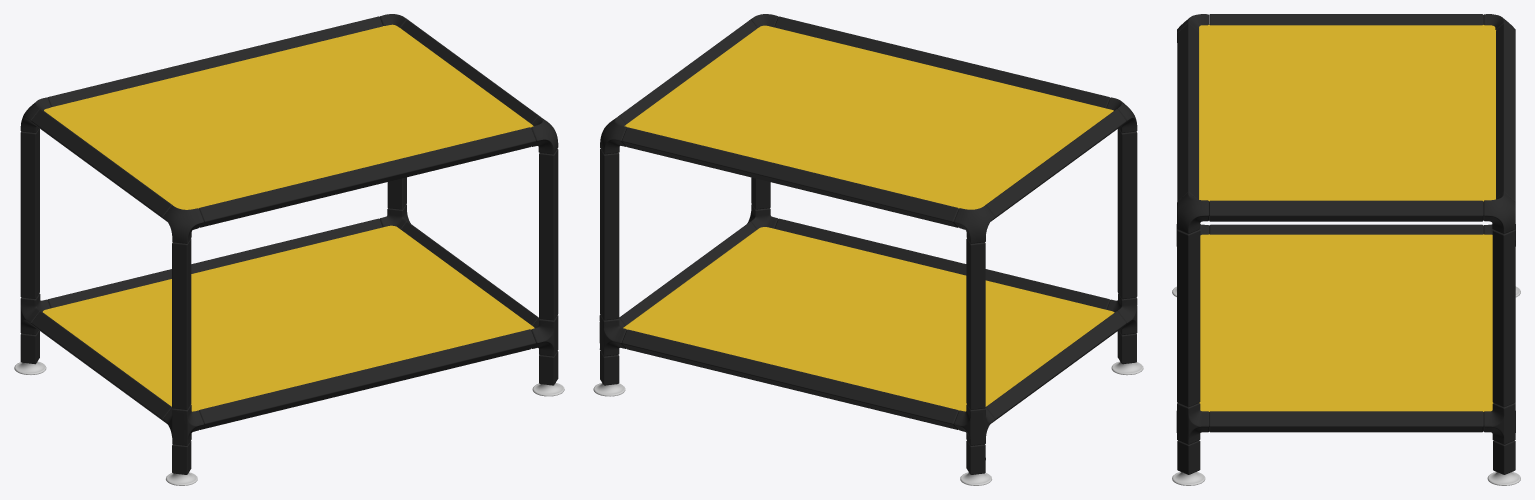
3 views of the same model, side by side, from view 1: azimuth 30°, elevation 25°; view 2: azimuth 150°, elevation 25°; view 3: azimuth 270°, elevation 25° (orthographic). The views are drawn at different scales.
Parts seen in each view (by area): view 1: 479x329x229; view 2: 479x329x229; view 3: 479x329x229.
Boxes of the visible parts, box(x1,y1,x2,y2) form: 479x329x229: box(14, 14, 564, 485); 479x329x229: box(593, 14, 1143, 485); 479x329x229: box(1172, 14, 1520, 485).
Bounding box in the file's own units: 0.5689 × 0.3684 × 0.4183.
